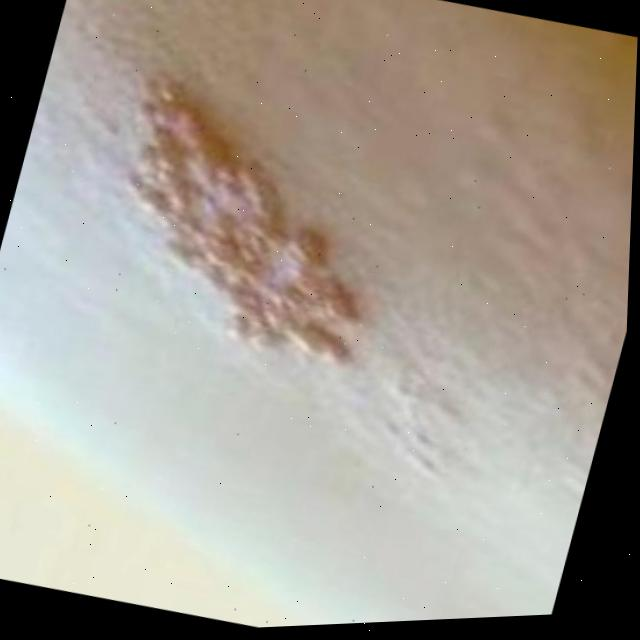Shingles: (82, 73, 413, 377)
